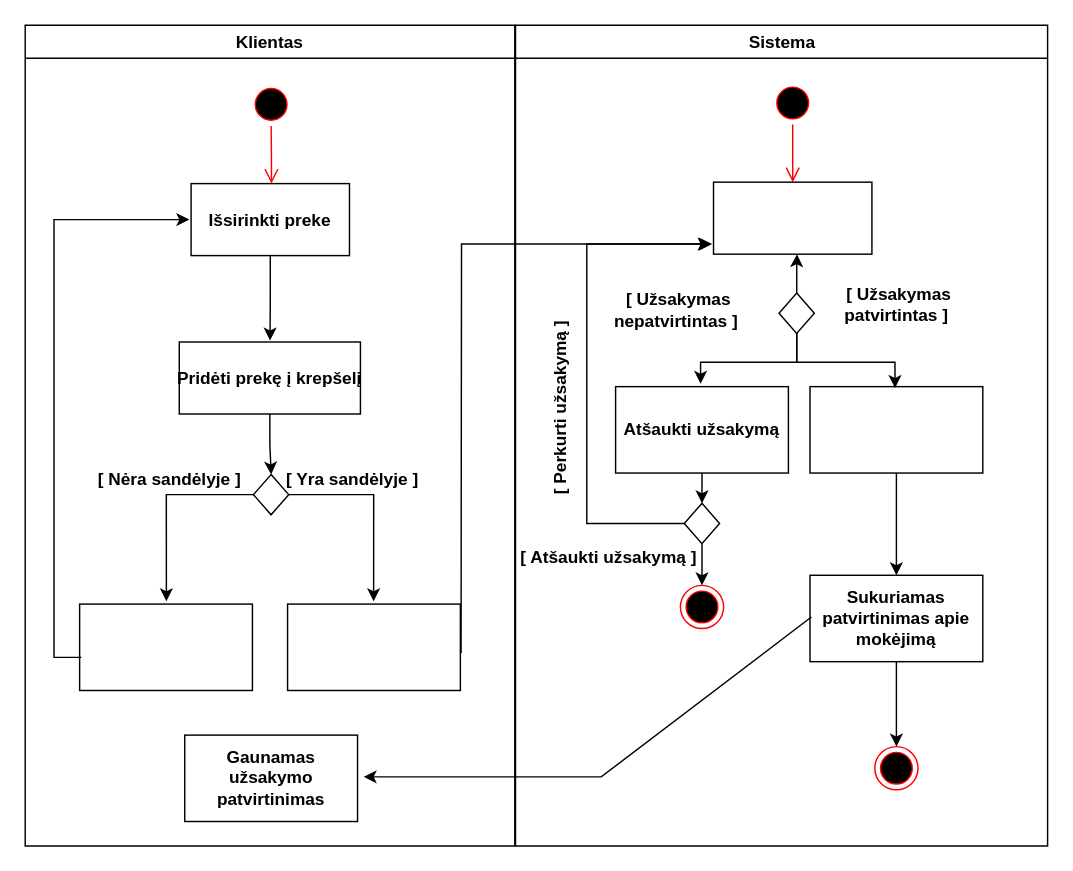
This 1073x871 diagram has some shape labels left out. The shapes that lost their labels are listed below. From the top down, each one's centre as x and y in pixels, then its label:
At pixel 792 217: "Sukurti užsakymą".
At pixel 896 429: "Užsakymas priimtas".
At pixel 165 646: "Prekės sandėlyje nėra".
At pixel 373 646: "Prekė yra sandelyje".
